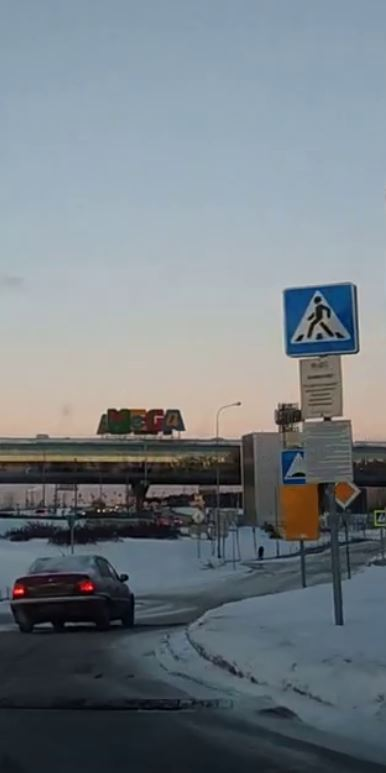Yaya Gecidi: (286, 285, 357, 348)
